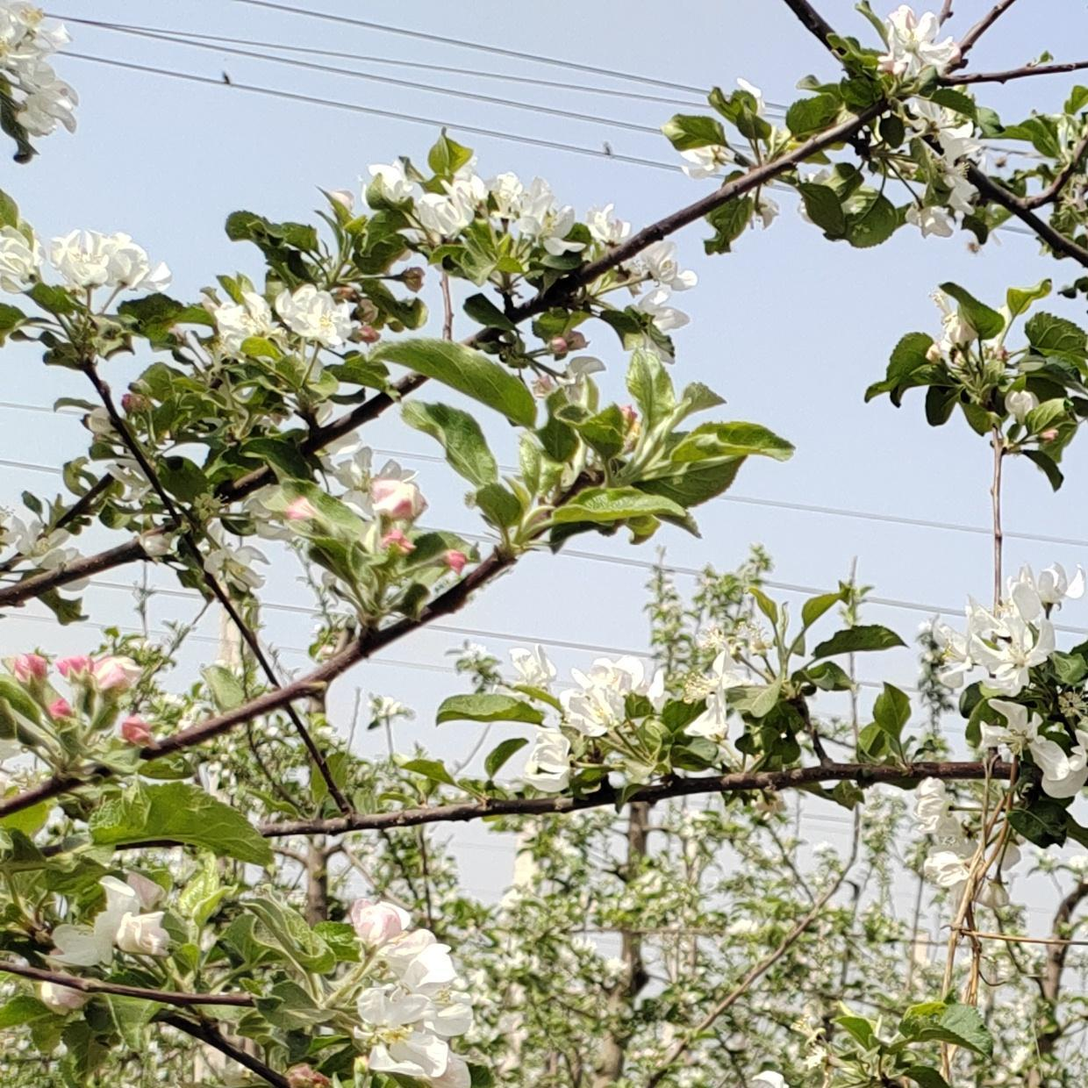apple_flower: (913, 562, 1080, 723), (343, 898, 469, 1088), (409, 158, 564, 235), (0, 0, 69, 154), (209, 279, 347, 344), (39, 225, 164, 289), (877, 1, 956, 82)
